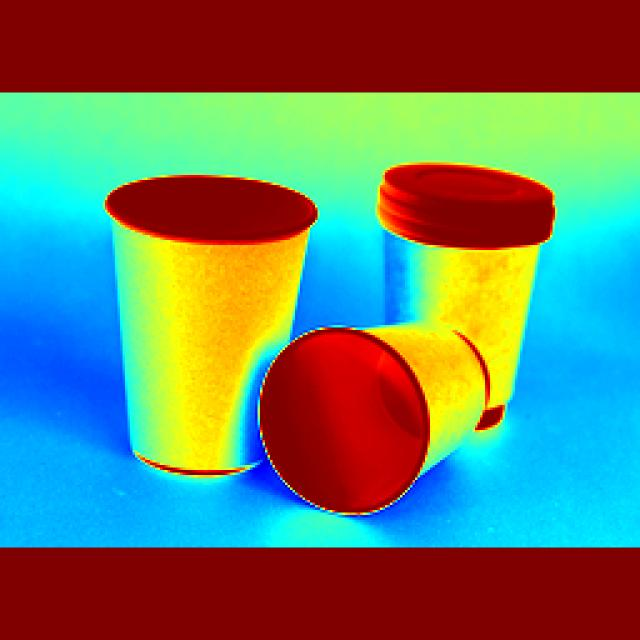Paper Cups: (104, 170, 306, 485), (243, 290, 484, 528), (386, 176, 532, 392)
